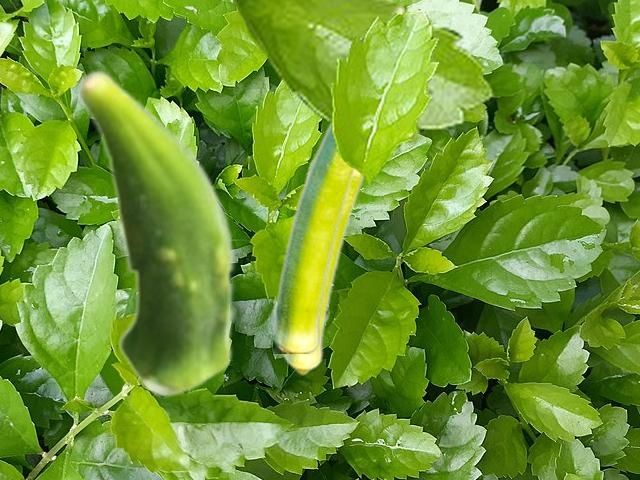okra: (75, 68, 237, 397), (273, 4, 403, 352), (282, 172, 366, 375)
